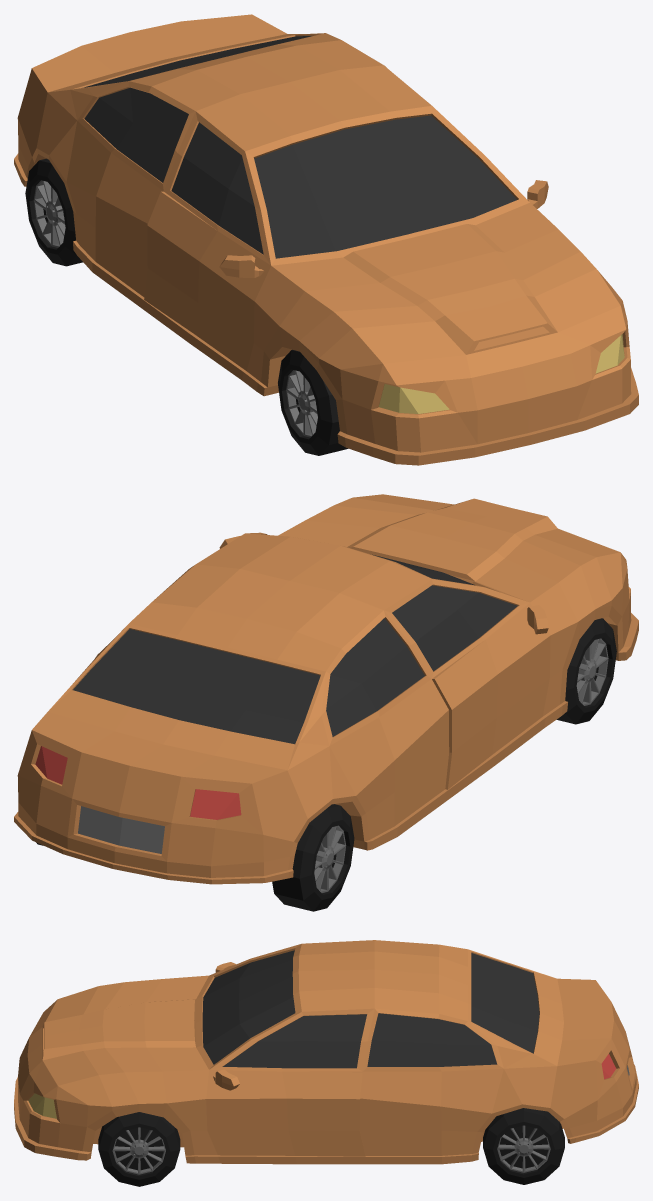
The model's file is sports.glb.
3 views of the same model, one above another, from view 1: azimuth 30°, elevation 25°; view 2: azimuth 150°, elevation 25°; view 3: azimuth 270°, elevation 25° (orthographic). The views are drawn at different scales.
Parts seen in each view (by area): view 1: SportsCar_Cube.005, wheel-front-right, wheels-back; view 2: SportsCar_Cube.005, wheels-back, wheel-front-right; view 3: SportsCar_Cube.005, wheels-back, wheel-front-left.
Part boxes in pixels (box(x1,y1,x2,y2)): SportsCar_Cube.005: box(14, 14, 638, 465); wheel-front-right: box(278, 349, 348, 455); wheels-back: box(25, 158, 82, 266); SportsCar_Cube.005: box(14, 494, 638, 884); wheels-back: box(36, 804, 354, 911); wheel-front-right: box(556, 618, 616, 724); SportsCar_Cube.005: box(14, 940, 638, 1164); wheels-back: box(483, 1108, 564, 1184); wheel-front-left: box(98, 1112, 180, 1186).
Bounding box in the file's own units: 2.05 × 1.31 × 4.5.
